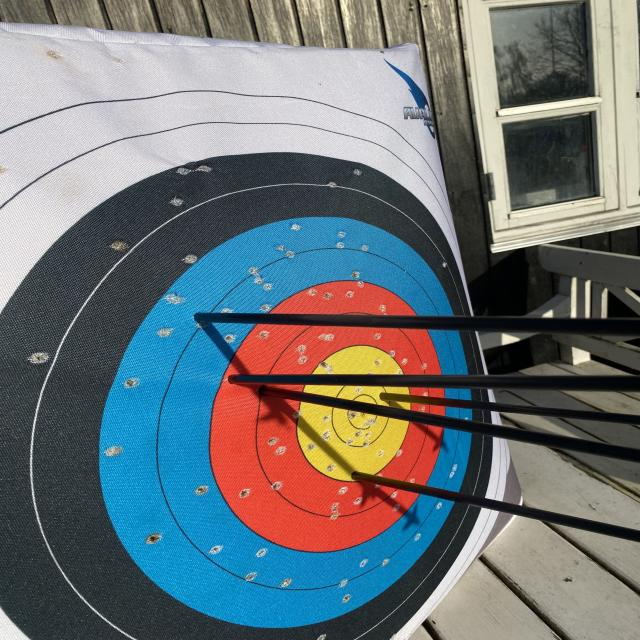Arrow_Blue: (176, 297, 228, 338)
Arrow_Red: (249, 381, 311, 406), (215, 363, 256, 394)
Arrow_Yellow: (342, 462, 381, 494), (369, 384, 412, 405)
